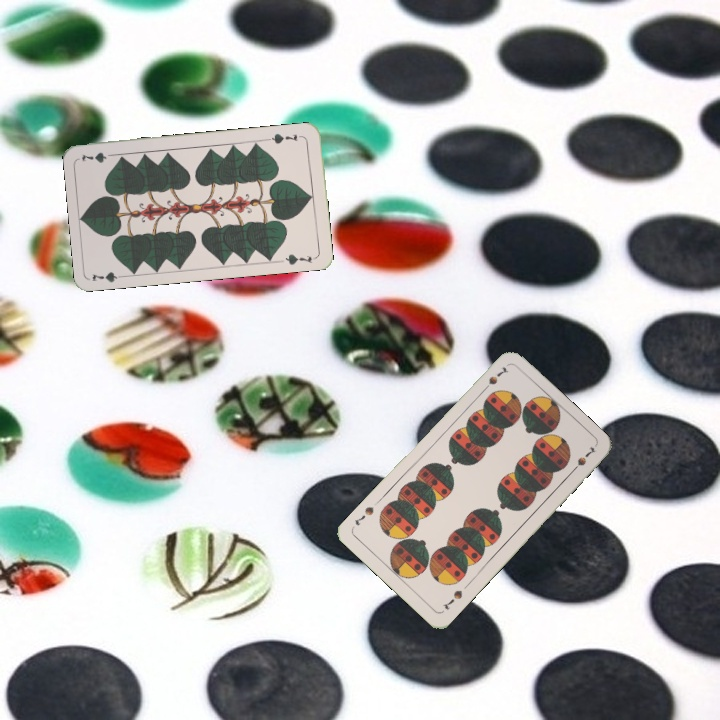G7: (265, 129, 306, 146), (88, 268, 129, 285)
S7: (478, 362, 511, 394), (438, 586, 465, 612)
